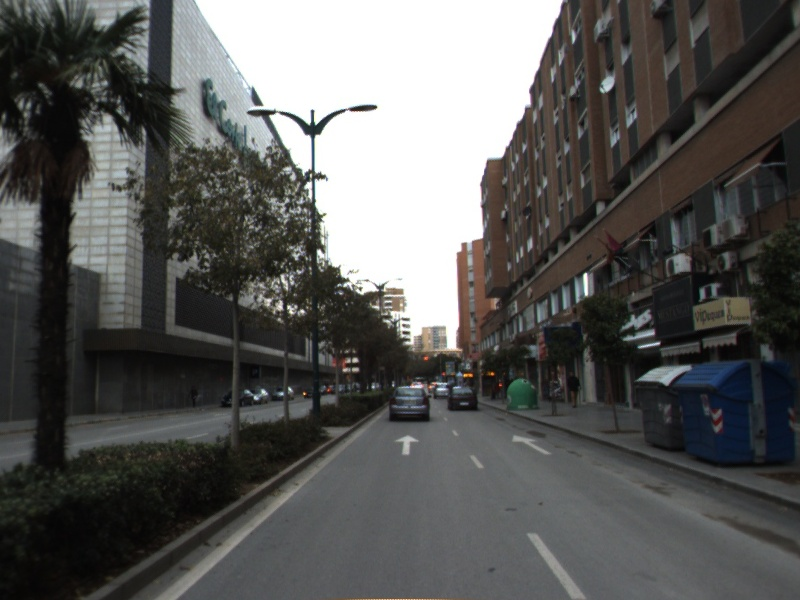STRAIGHT: (510, 432, 555, 457), (393, 433, 422, 457)
